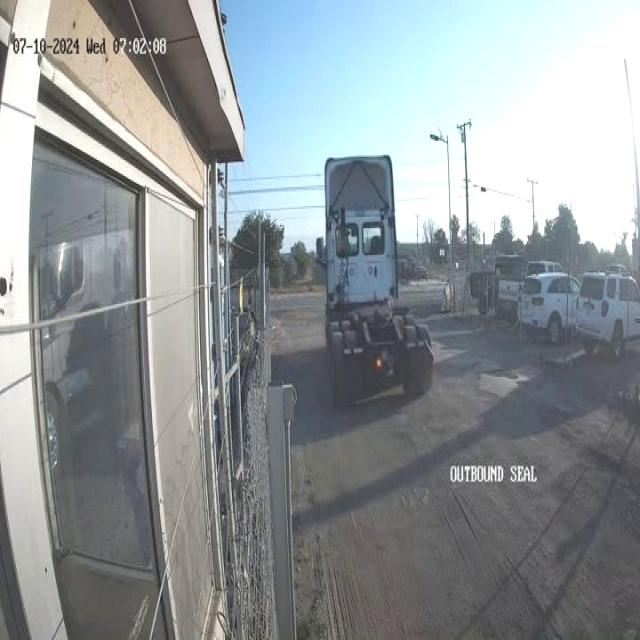BOBTAIL: (316, 153, 434, 408)
